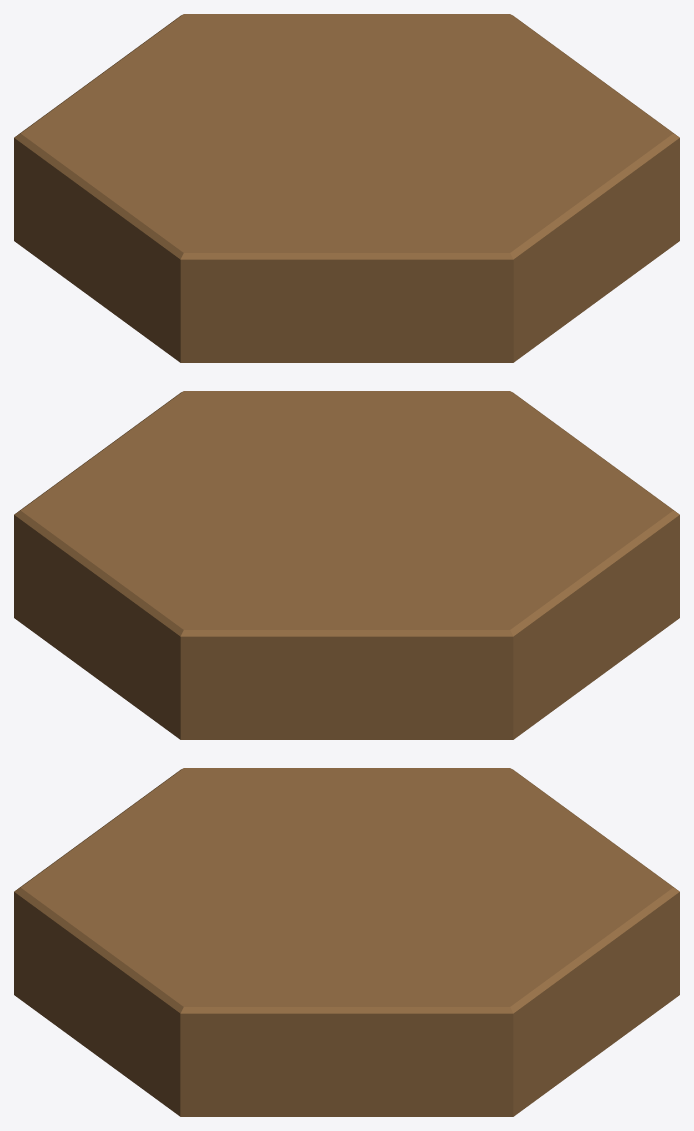
Rendered from RPG_Tiles_Hex_Half_Dirt_Raised_01.FBX.
The picture shows the model from 3 angles, top to bottom: view 1: azimuth 30°, elevation 25°; view 2: azimuth 150°, elevation 25°; view 3: azimuth 270°, elevation 25°; orthographic projection.
Visible parts, largest first — view 1: RPG_Tiles_Hex_Half_Dirt_Raised_01; view 2: RPG_Tiles_Hex_Half_Dirt_Raised_01; view 3: RPG_Tiles_Hex_Half_Dirt_Raised_01.
Part boxes in pixels (x1=…): RPG_Tiles_Hex_Half_Dirt_Raised_01: x1=14, y1=14, x2=679, y2=362; RPG_Tiles_Hex_Half_Dirt_Raised_01: x1=14, y1=391, x2=679, y2=739; RPG_Tiles_Hex_Half_Dirt_Raised_01: x1=14, y1=768, x2=679, y2=1116.
Bounding box in the file's own units: 3000 × 617 × 3464.
